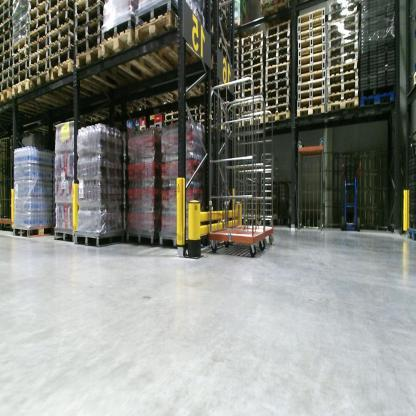pallets: (152, 1, 363, 137), (0, 0, 184, 104)
